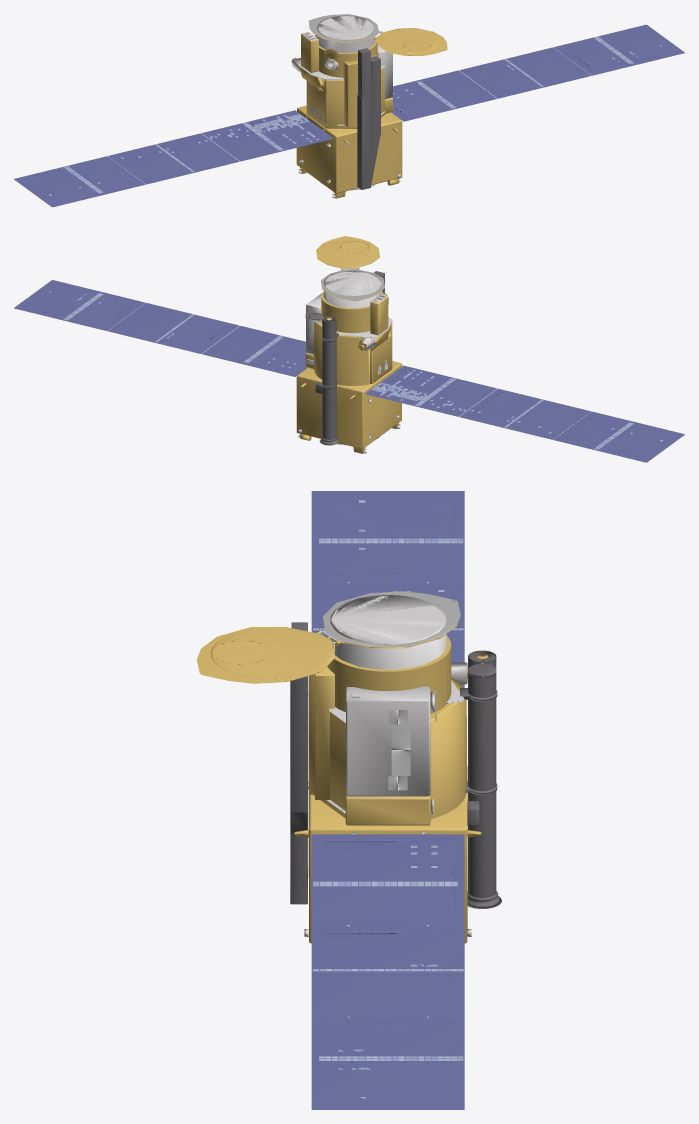
Rendered from hinode.glb.
3 renders of one model, top to bottom at view 1: azimuth 30°, elevation 25°; view 2: azimuth 150°, elevation 25°; view 3: azimuth 270°, elevation 25°, orthographic. The views are drawn at different scales.
Parts seen in each view (by area): view 1: Fake; view 2: Fake; view 3: Fake.
Part boxes in pixels (<box>): Fake: <box>14,14,684,207</box>; Fake: <box>14,236,684,462</box>; Fake: <box>197,491,501,1109</box>.
Size of the model in its own units: 1 by 0.2286 by 0.2089.
